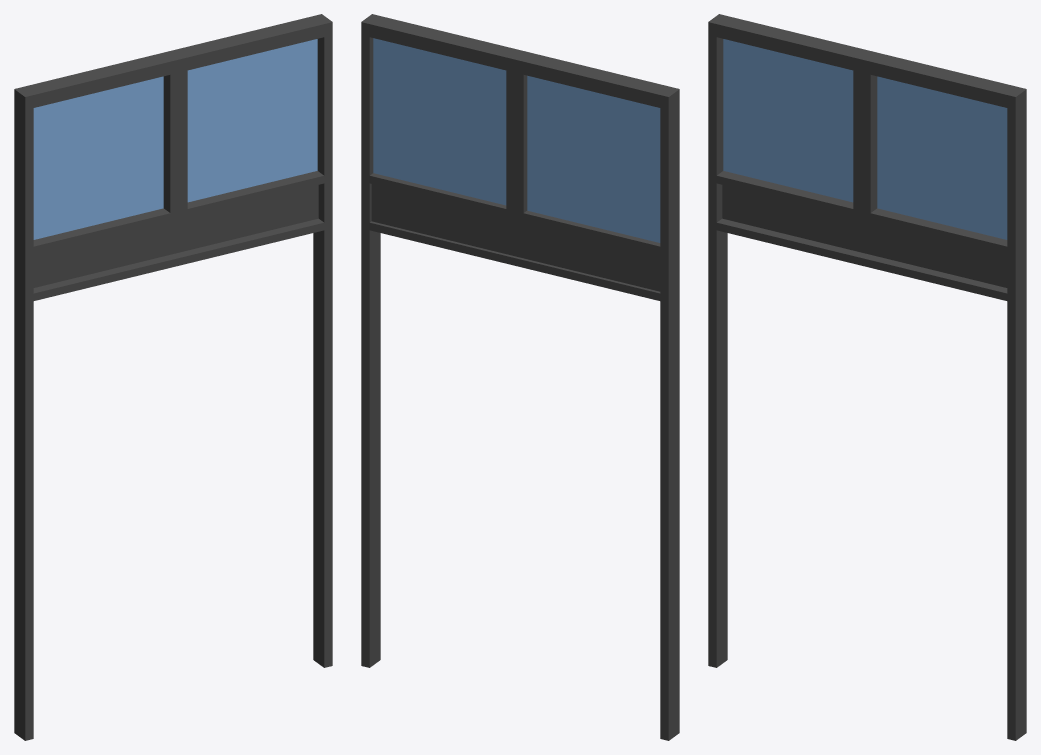
The model's file is SM_Frame_MainDoor.fbx.
The picture shows the model from 3 angles, left to right: view 1: azimuth 30°, elevation 25°; view 2: azimuth 150°, elevation 25°; view 3: azimuth 330°, elevation 25°; orthographic projection.
Visible parts, largest first — view 1: SM_Frame_MainDoor; view 2: SM_Frame_MainDoor; view 3: SM_Frame_MainDoor.
Boxes of the visible parts, box(x1,y1,x2,y2) form: SM_Frame_MainDoor: box(14, 14, 332, 740); SM_Frame_MainDoor: box(361, 14, 679, 740); SM_Frame_MainDoor: box(708, 14, 1026, 740).
Size of the model in its own units: 200 by 400 by 12.38.
